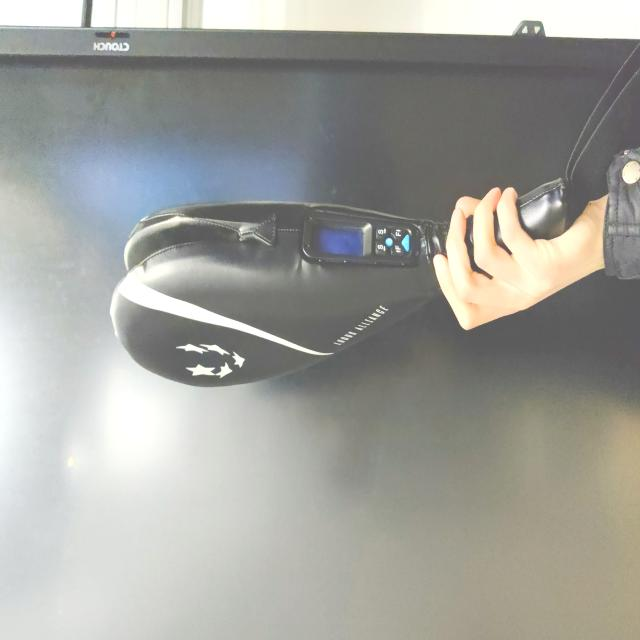paddle: (106, 171, 572, 393)
